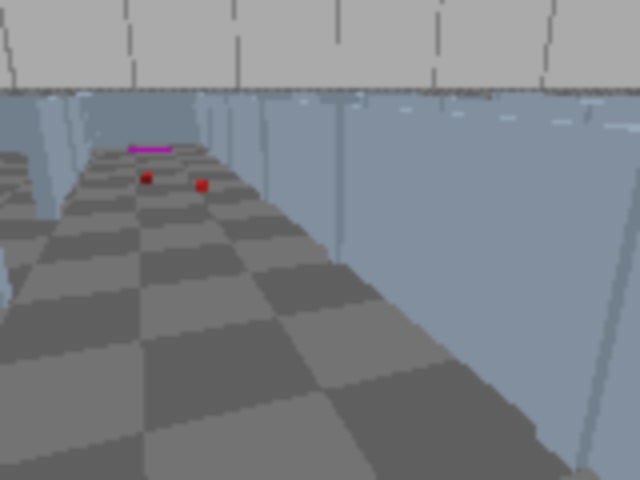goal_zone: (129, 147, 175, 154)
